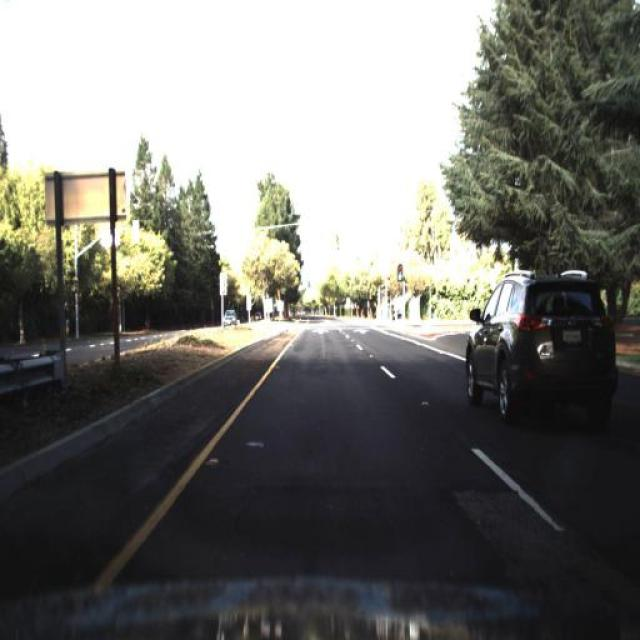car: (464, 270, 617, 434), (217, 303, 241, 333)
trafficLight-GreenLeft: (394, 262, 404, 289)
